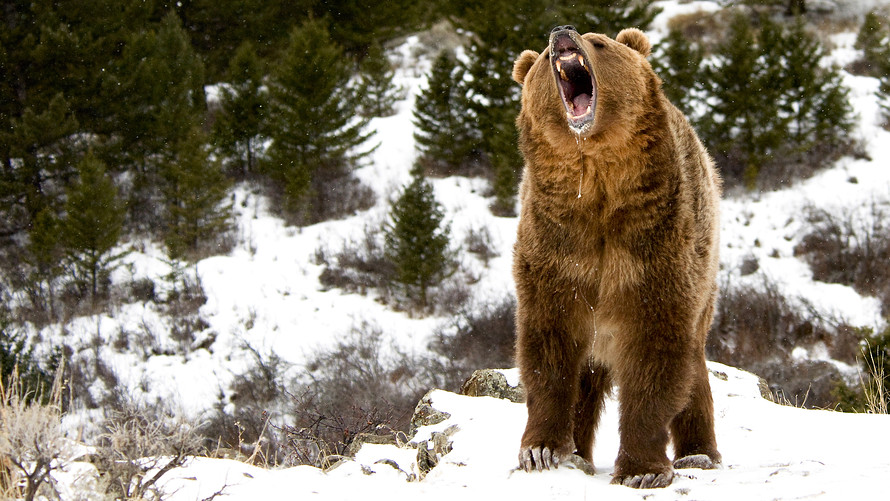bear: (507, 20, 657, 150)
